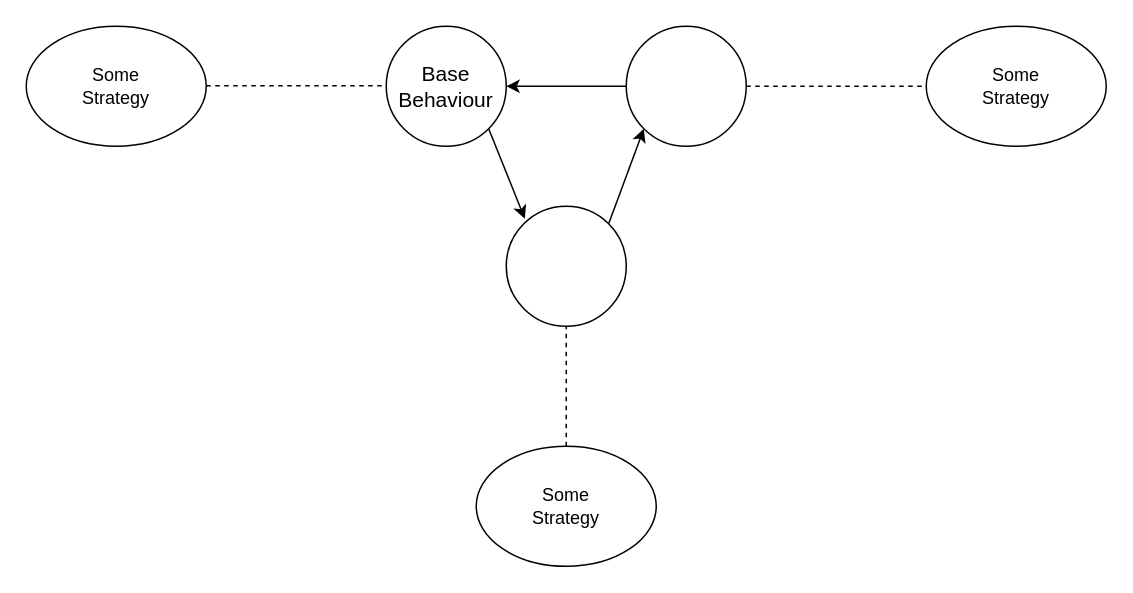
The diagram is 1133 pixels wide and 593 high, and some of its shapes have lost their labels. The box of each missing label's shape, as (x1, y1, x2, y2) in pixels:
Player Lost: (625, 25, 746, 146)
Player Sighted: (505, 205, 626, 326)
